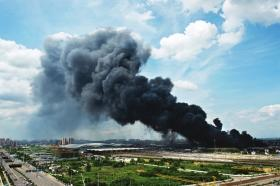smoke: (49, 34, 256, 147)
